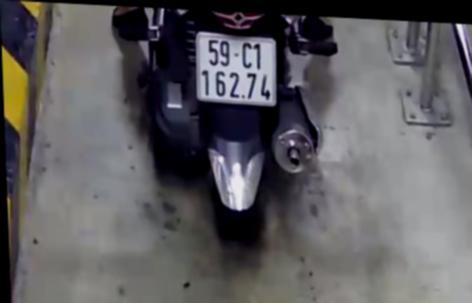License_Plate: (190, 26, 285, 110)
